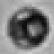correct: (9, 0, 52, 49)
